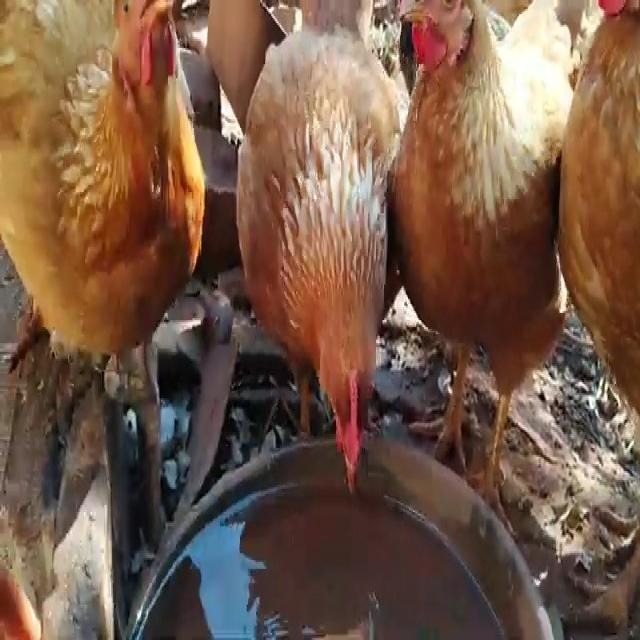drinking: (242, 28, 413, 512)
